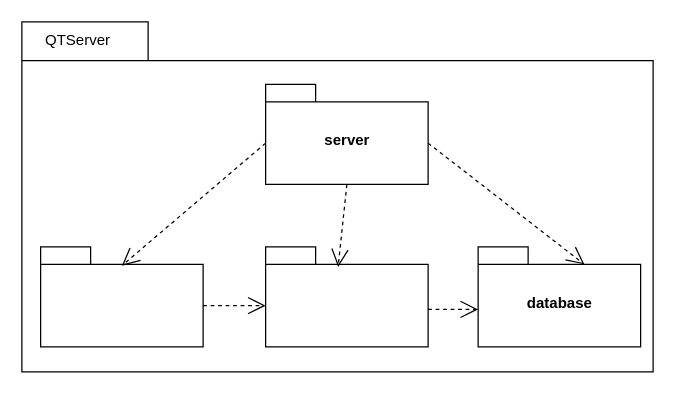
Some shapes in this 675 by 394 pixel diagram are drawn without their labels. Each missing label, with the box of its shape:
data: (264, 246, 428, 347)
mining: (39, 246, 203, 347)
